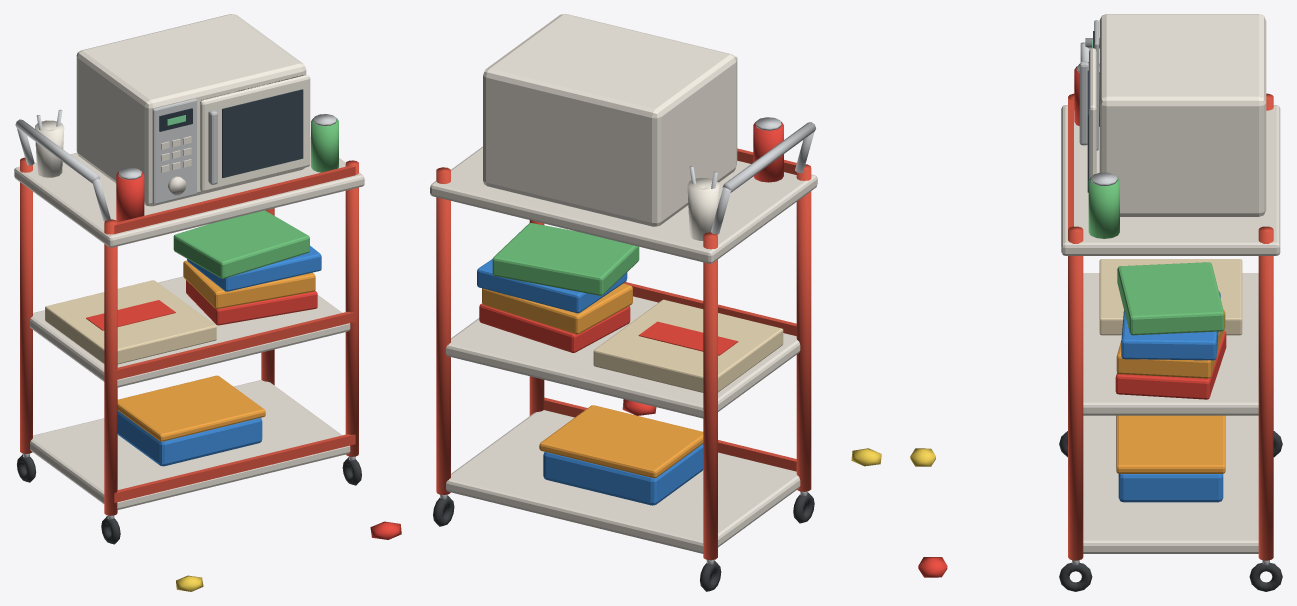
The model's file is microwaveCart.glb.
3 views of the same model, side by side, from view 1: azimuth 30°, elevation 25°; view 2: azimuth 150°, elevation 25°; view 3: azimuth 270°, elevation 25° (orthographic). The views are drawn at different scales.
Visible parts, largest first — view 1: body, door; view 2: body; view 3: body, door.
Part boxes in pixels (x1=…): body: x1=14, y1=14, x2=401, y2=591; door: x1=200, y1=75, x2=310, y2=192; body: x1=430, y1=14, x2=881, y2=591; body: x1=910, y1=14, x2=1282, y2=591; door: x1=1079, y1=48, x2=1096, y2=192.
Bounding box in the file's own units: 0.722 × 1.1 × 0.7828.
